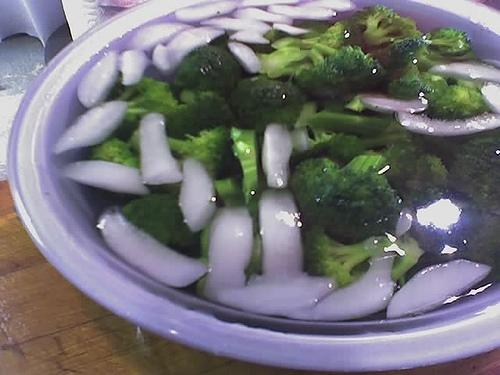broccoli: (292, 148, 401, 244), (302, 224, 391, 288), (402, 185, 484, 254), (294, 42, 388, 102), (140, 88, 240, 141), (121, 193, 201, 259), (167, 124, 243, 187), (226, 76, 305, 133), (171, 42, 243, 101), (448, 137, 500, 210), (349, 4, 424, 54), (271, 19, 364, 50), (462, 216, 500, 282), (387, 60, 448, 100), (230, 126, 260, 206), (426, 84, 492, 120), (386, 37, 452, 71), (312, 112, 389, 137), (256, 46, 313, 79), (392, 237, 425, 285), (421, 26, 472, 57), (89, 138, 139, 168), (326, 133, 366, 163), (414, 153, 450, 183), (213, 177, 246, 207)
